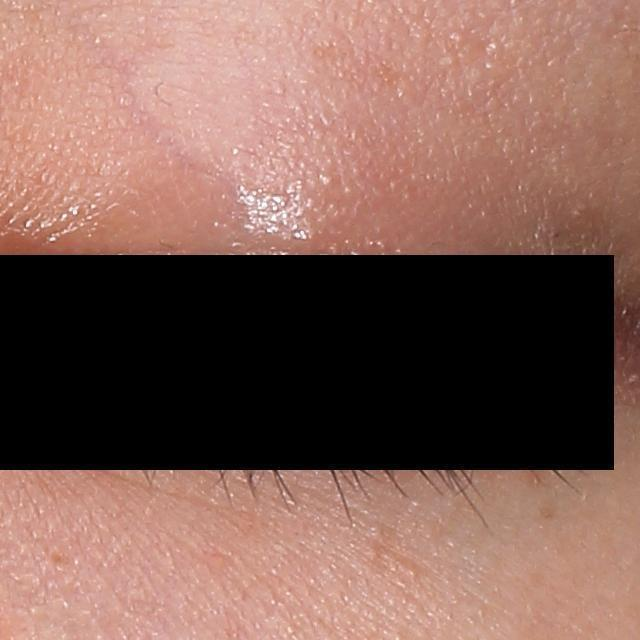melasma: (522, 446, 550, 494)
